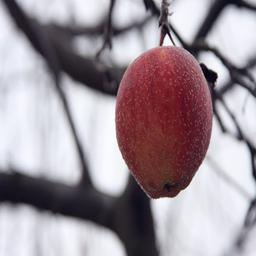apple: (114, 45, 216, 199)
